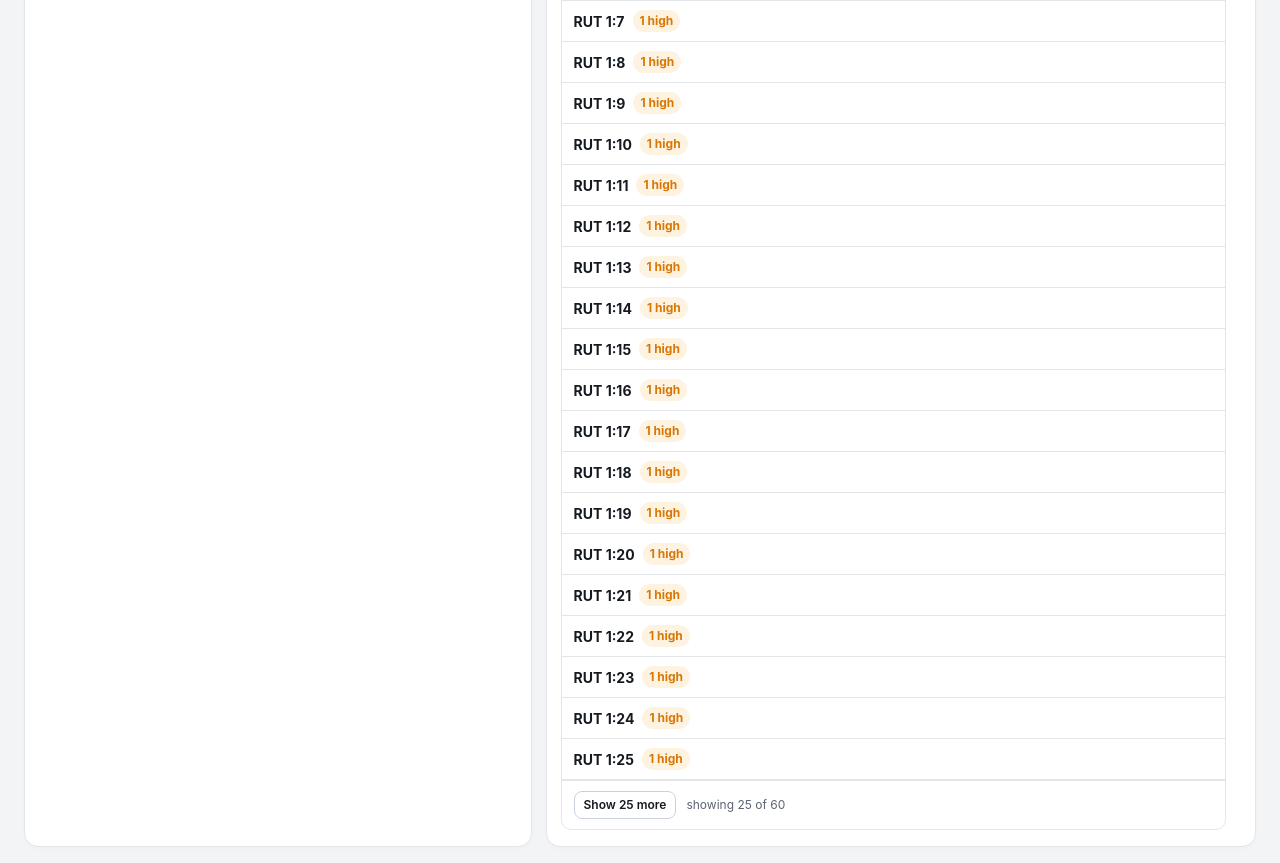
ProjectDashboard › the exception queue is pageable, not a dead count (#144) › reveals the next page on click, and the last page asks for only what is left
(page scrolled)
Click the button "Show 25 more" at coordinates (625, 805), box [574,791,676,819]
(page scrolled)
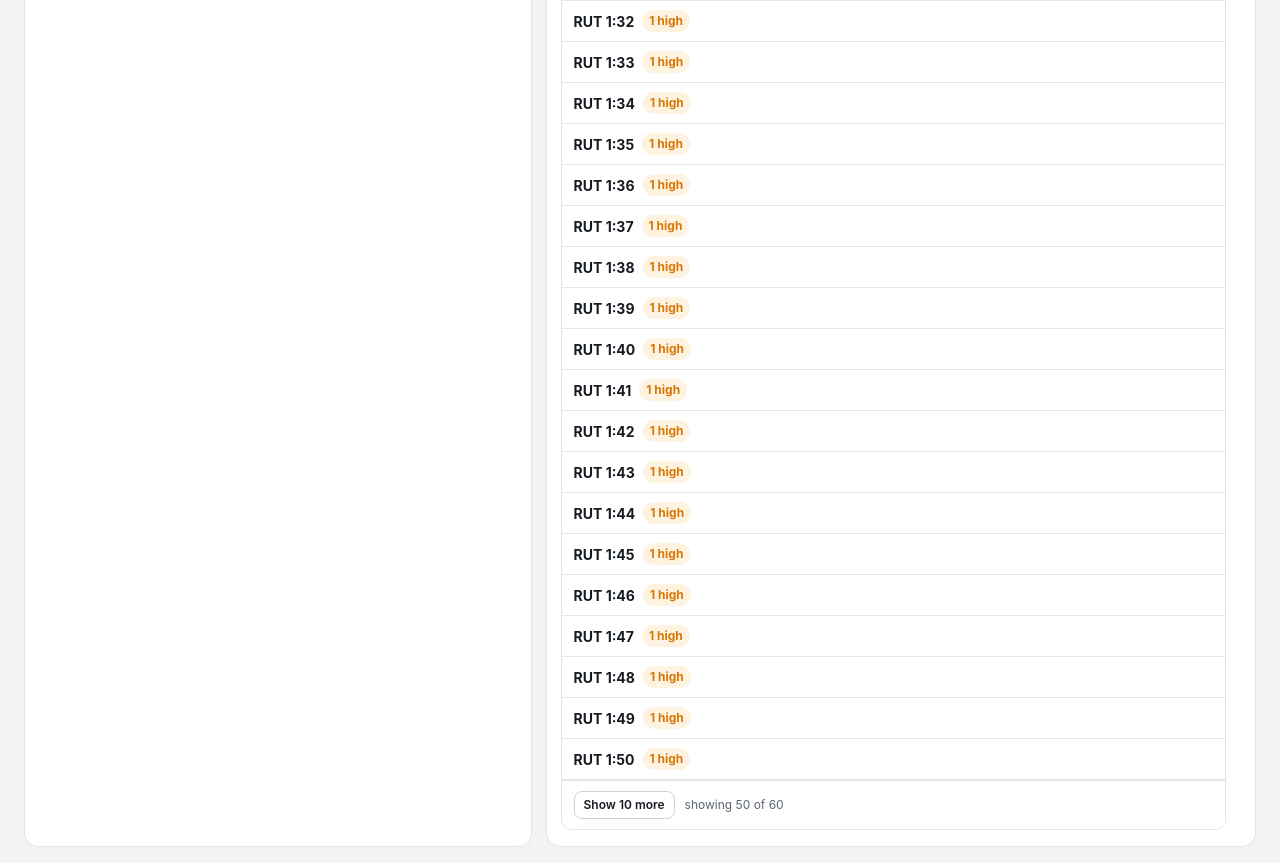
Now the text "showing 50 of 60" is shown, box [685,796,784,814]
10 left, not another 25 — the label must not promise rows that do not exist.
Click the button "Show 10 more" at coordinates (624, 805), box [574,791,675,819]
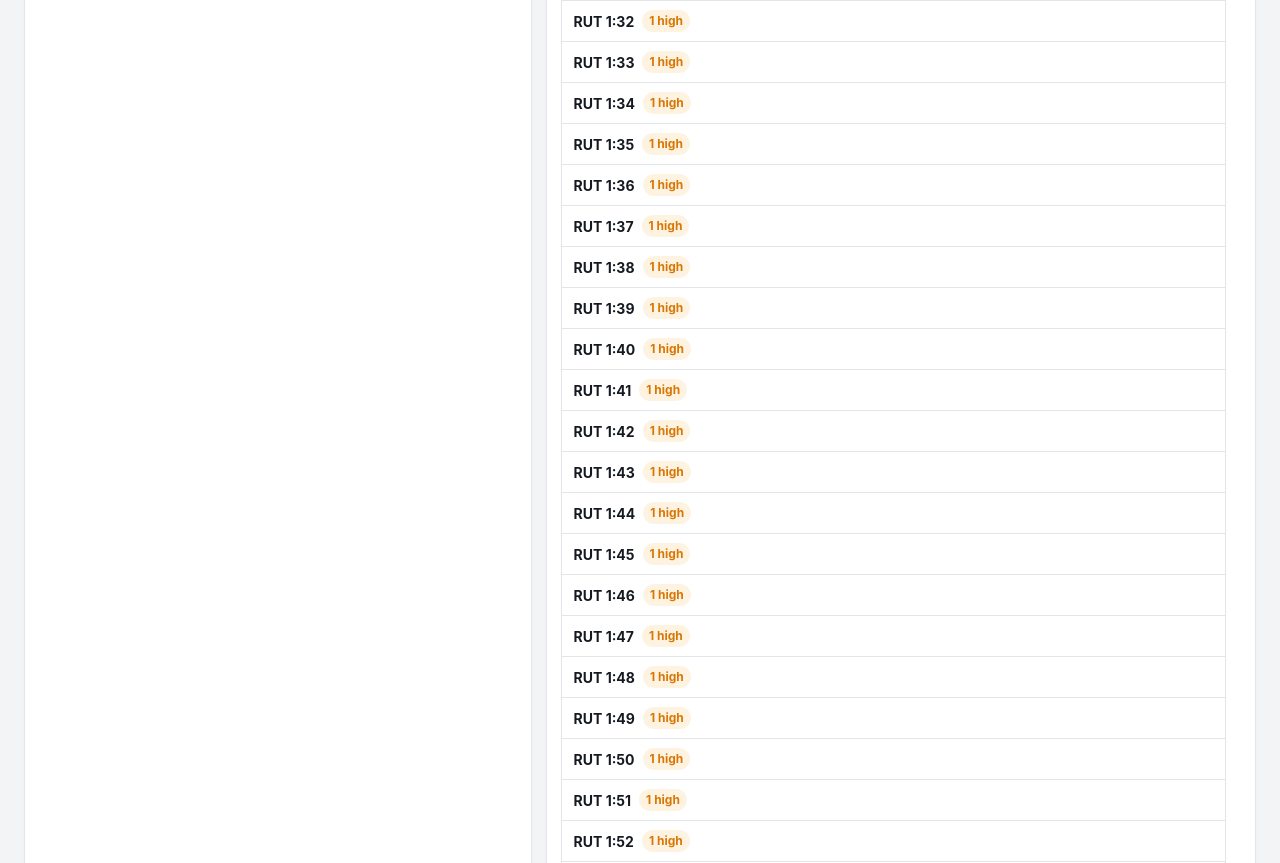
Now the text "showing 50 of 60" is gone
Now the button "Show 10 more" is gone
